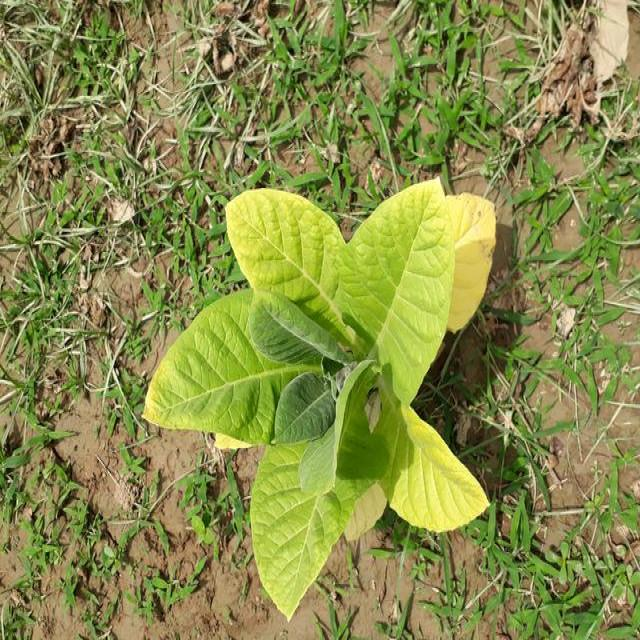crop: (160, 184, 492, 599)
